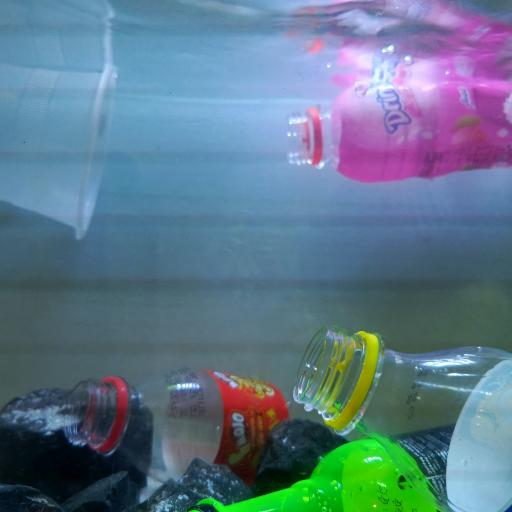plastic_bottle: (295, 320, 512, 512), (59, 370, 345, 476), (160, 428, 489, 512), (283, 67, 512, 184)
plastic_cup: (0, 60, 125, 240)
